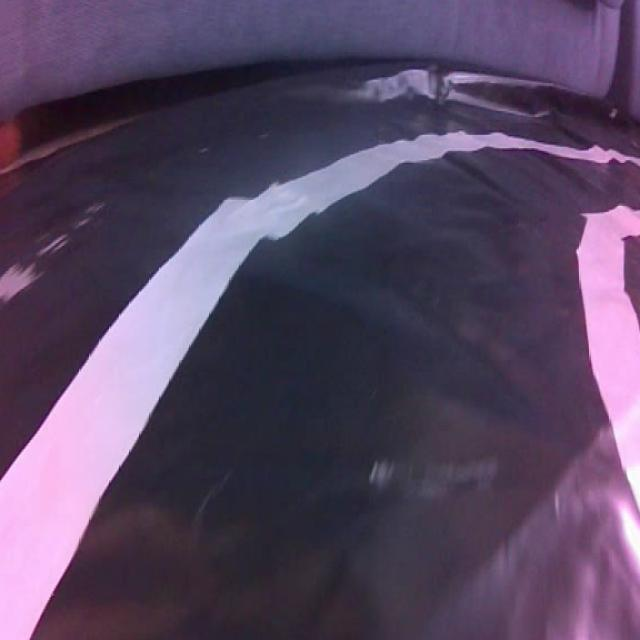LineaCarril: (0, 135, 529, 640), (578, 206, 640, 517)
